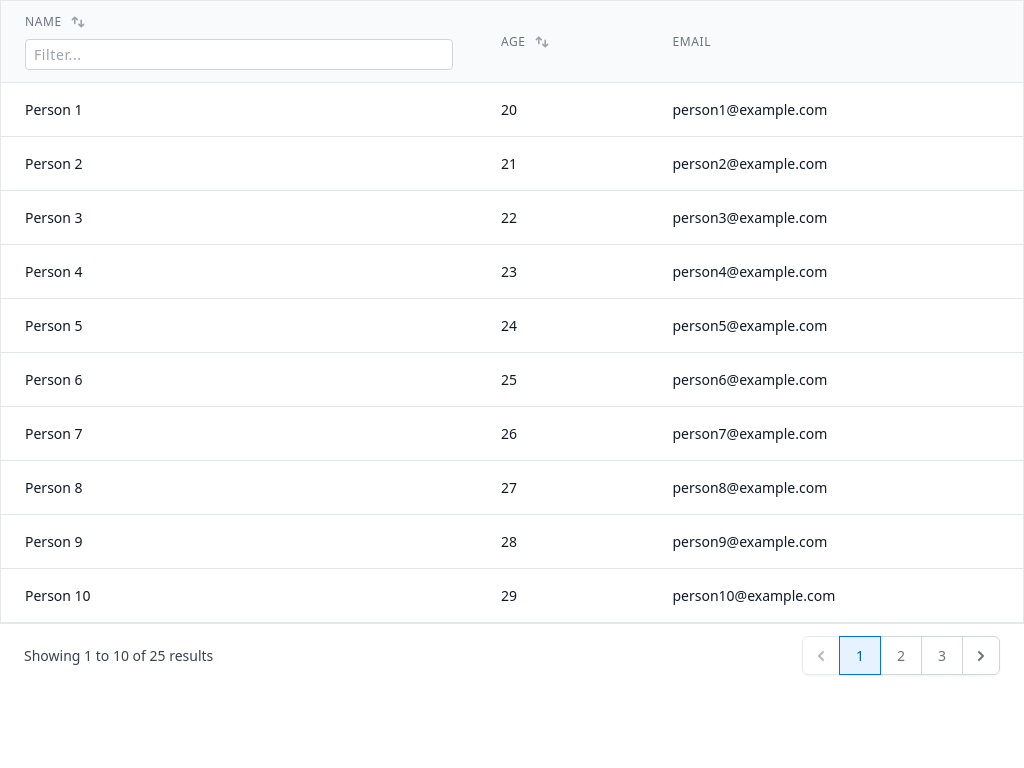
Table › paginates data correctly
Expected: the text "Person 1" is shown, [0,82,477,136]
Expected: the text "Person 10" is shown, [0,568,477,622]
Click the button named "Next page" at (981, 656), box [962,636,1000,675]
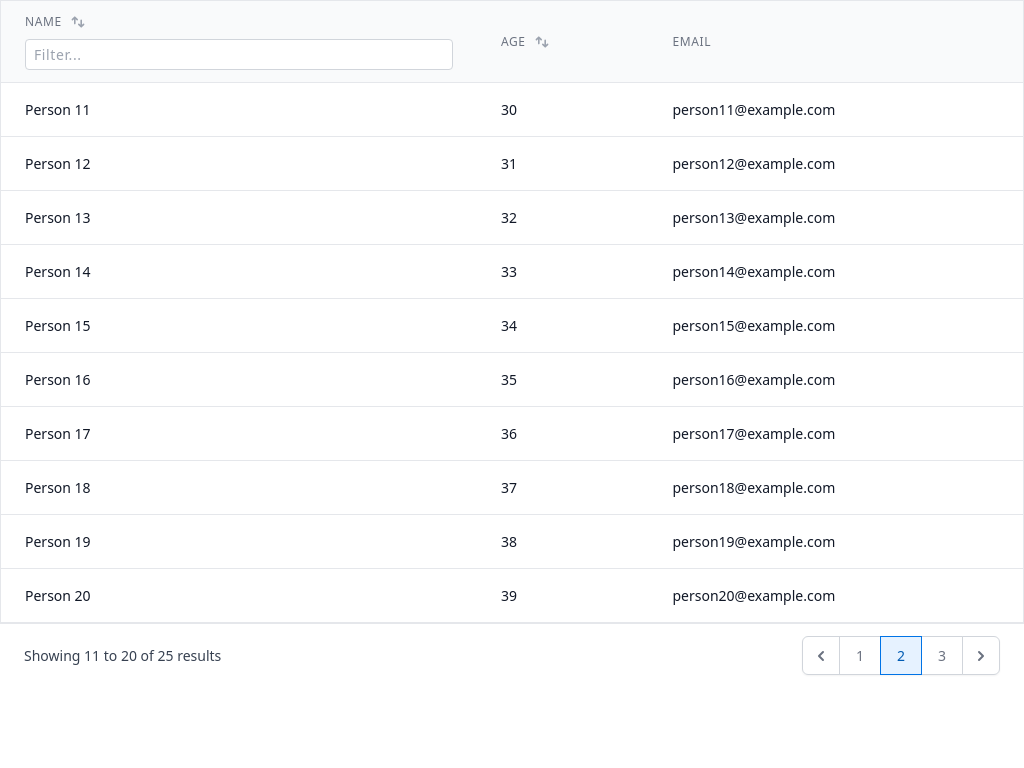
Expected: the text "Person 11" is shown, [0,82,477,136]
